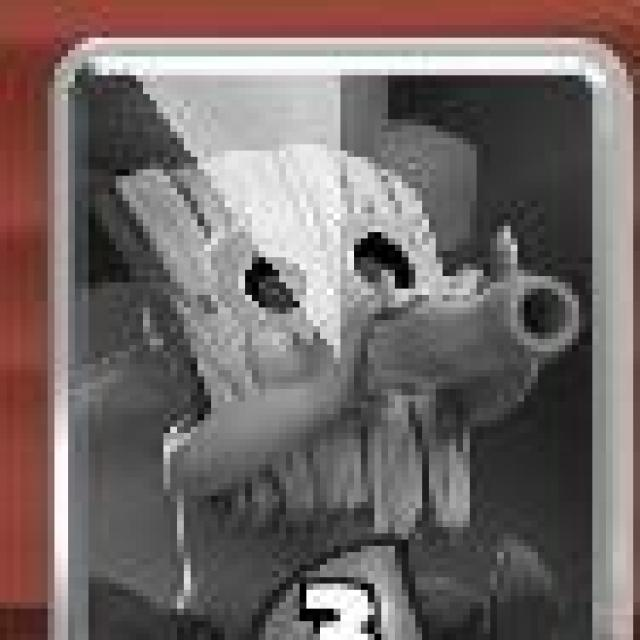Dart_Goblin: (46, 34, 635, 640)
